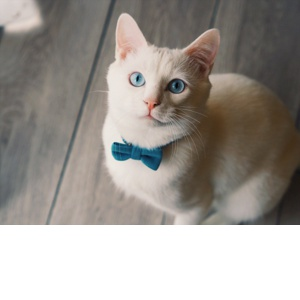cat: (15, 0, 224, 152)
